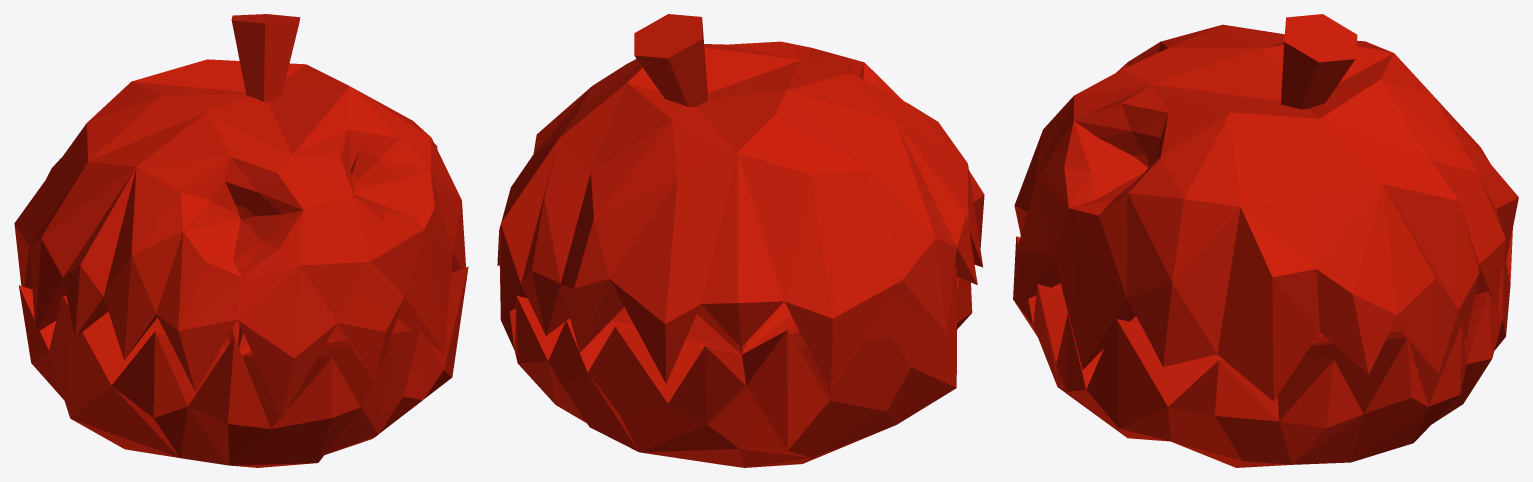
The model's file is thehead_2.FBX.
3 views of the same model, side by side, from view 1: azimuth 30°, elevation 25°; view 2: azimuth 150°, elevation 25°; view 3: azimuth 270°, elevation 25° (orthographic). The views are drawn at different scales.
Parts seen in each view (by area): view 1: Sphere009; view 2: Sphere009; view 3: Sphere009.
Boxes of the visible parts, x1,y1,x2,y2 form: Sphere009: (14, 14, 468, 467); Sphere009: (497, 14, 984, 467); Sphere009: (1013, 14, 1518, 467).
Size of the model in its own units: 267 by 270 by 252.
